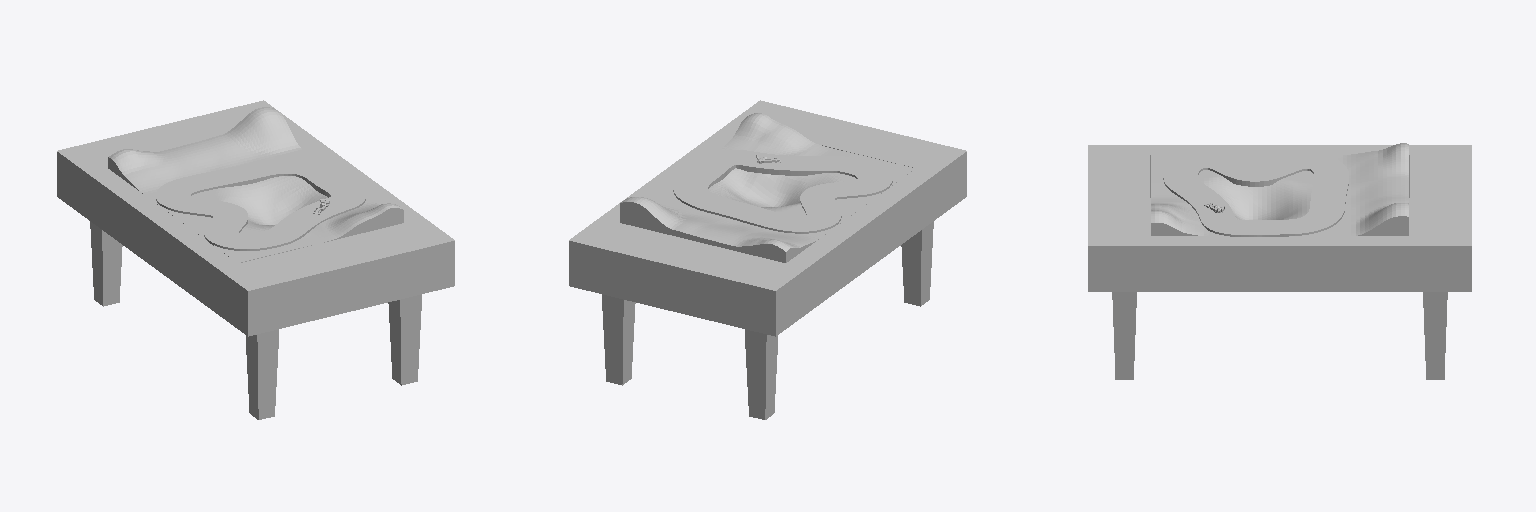
File: NewestTisch39.obj
3 views of the same model, side by side, from view 1: azimuth 30°, elevation 25°; view 2: azimuth 150°, elevation 25°; view 3: azimuth 270°, elevation 25° (orthographic).
Visible parts, largest first — view 1: Tischplatte_wood_table_001, Landschaft_aerial_grass_rock, off, Bein1_wood_table_001, Bein4_wood_table_001.003, Bein3_wood_table_001.002; view 2: Tischplatte_wood_table_001, Landschaft_aerial_grass_rock, off, Bein2_wood_table_001.001, Bein3_wood_table_001.002, Bein4_wood_table_001.003; view 3: Tischplatte_wood_table_001, Landschaft_aerial_grass_rock, off, Bein1_wood_table_001, Bein2_wood_table_001.001.
Part boxes in pixels (x1,y1,x2,y2): Tischplatte_wood_table_001: (57, 100, 454, 336); Landschaft_aerial_grass_rock: (108, 107, 403, 262); off: (156, 159, 365, 250); Bein1_wood_table_001: (388, 294, 421, 385); Bein4_wood_table_001.003: (246, 329, 278, 419); Bein3_wood_table_001.002: (90, 221, 122, 306); Tischplatte_wood_table_001: (569, 100, 966, 336); Landschaft_aerial_grass_rock: (620, 113, 915, 262); off: (673, 150, 892, 233); Bein2_wood_table_001.001: (602, 294, 635, 385); Bein3_wood_table_001.002: (745, 329, 777, 419); Bein4_wood_table_001.003: (901, 221, 933, 306); Tischplatte_wood_table_001: (1088, 145, 1471, 291); Landschaft_aerial_grass_rock: (1151, 143, 1408, 235); off: (1163, 153, 1348, 236); Bein1_wood_table_001: (1112, 292, 1136, 379); Bein2_wood_table_001.001: (1423, 292, 1447, 379).
Size of the model in its own units: 5 by 3.91 by 8.